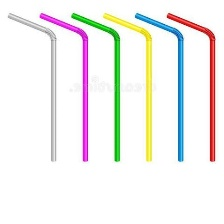drinking_straw: (132, 9, 189, 164), (163, 10, 220, 165), (5, 9, 62, 163), (67, 10, 123, 164)
